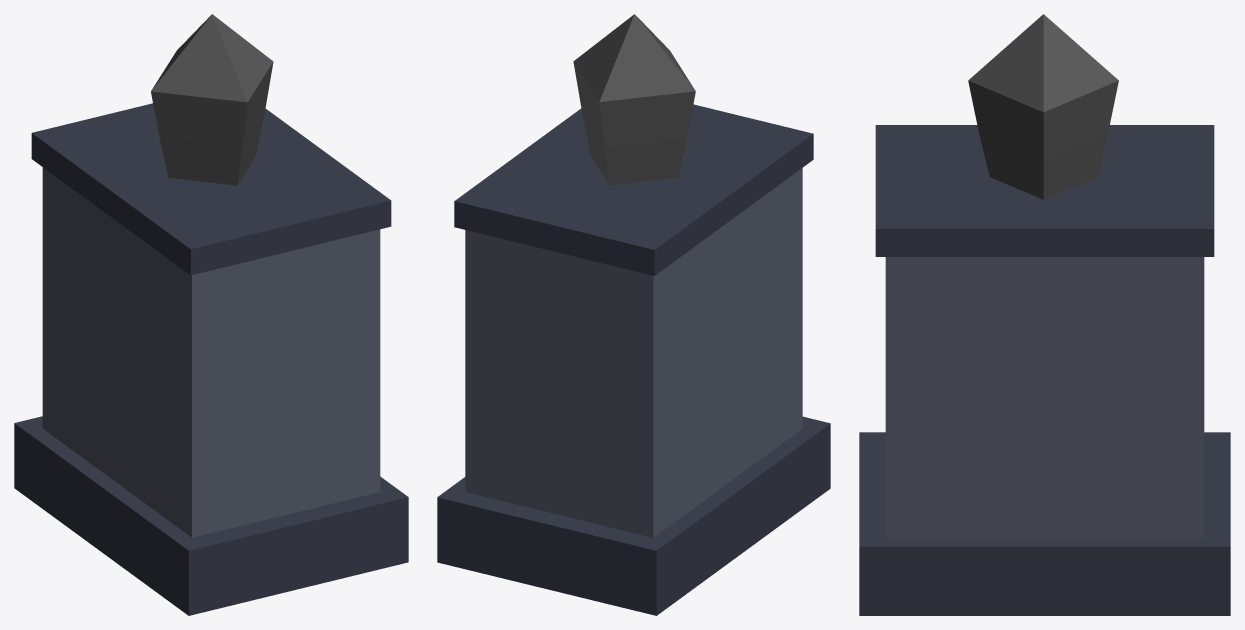
File: Mesh_graveyard_pillir_short.fbx
3 views of the same model, side by side, from view 1: azimuth 30°, elevation 25°; view 2: azimuth 150°, elevation 25°; view 3: azimuth 270°, elevation 25° (orthographic). The views are drawn at different scales.
Parts seen in each view (by area): view 1: graveyard_pillir_short; view 2: graveyard_pillir_short; view 3: graveyard_pillir_short.
Part boxes in pixels (x1,y1,x2,y2): graveyard_pillir_short: (14,14,408,615); graveyard_pillir_short: (437,14,830,615); graveyard_pillir_short: (859,14,1230,615).
Bounding box in the file's own units: 66.58 × 148 × 91.55.
1 material, 1 textured.
